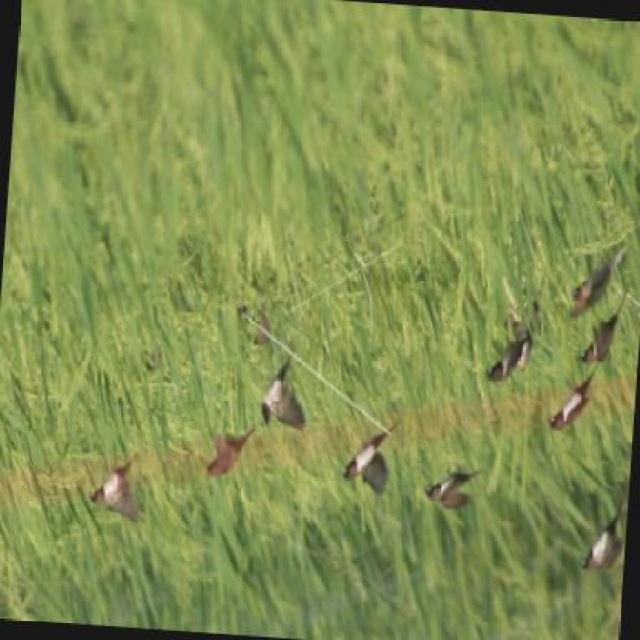Bird: (342, 424, 402, 496), (569, 249, 623, 319), (89, 461, 146, 524), (261, 359, 307, 433), (548, 369, 600, 433), (580, 300, 631, 365), (580, 504, 625, 573), (204, 426, 256, 478), (425, 467, 485, 511), (484, 333, 532, 384)
